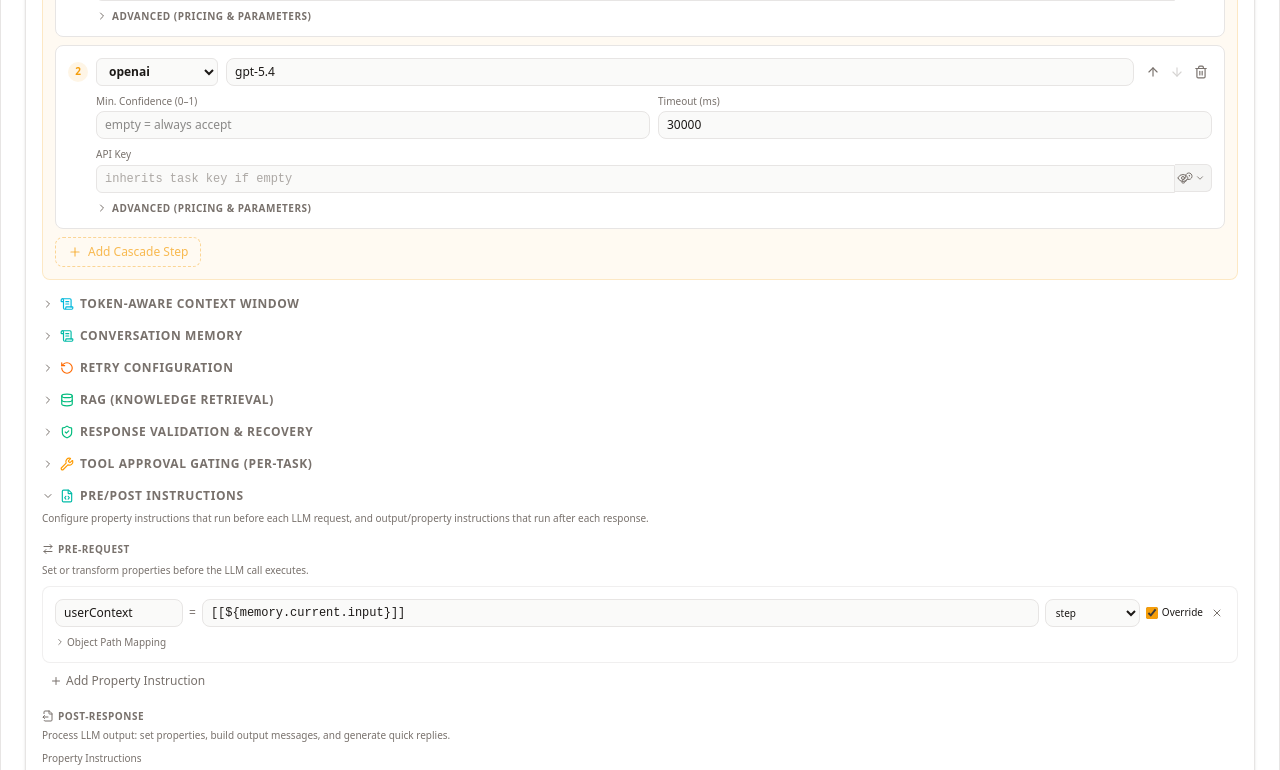
Scenario: LangChain Editor › renders httpCall RAG input when RAG section is expanded
The width and height of the screenshot is (1280, 770).
(page scrolled)
Click the button "RAG (Knowledge Retrieval)": {"x": 158, "y": 400} [42,392,274,408]
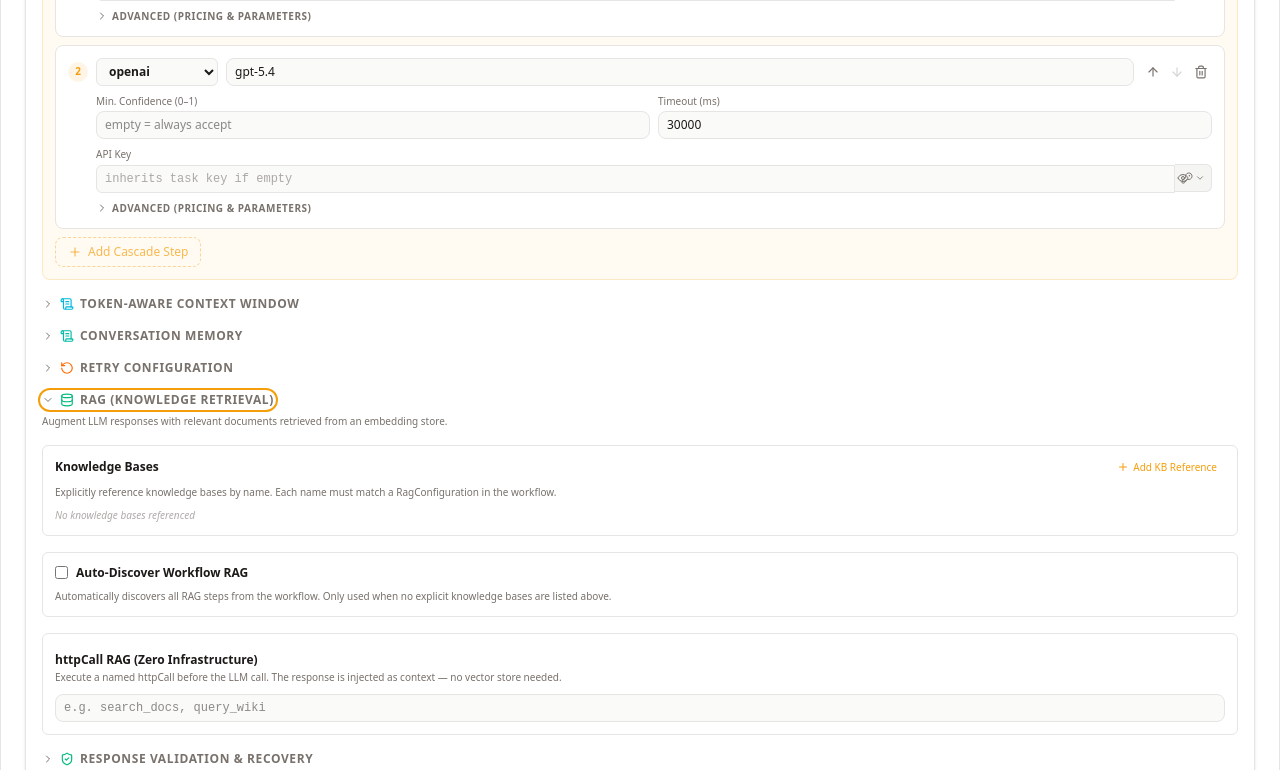
Check: the field with test id "httpcall-rag" is shown, box [55,694,1225,722]
